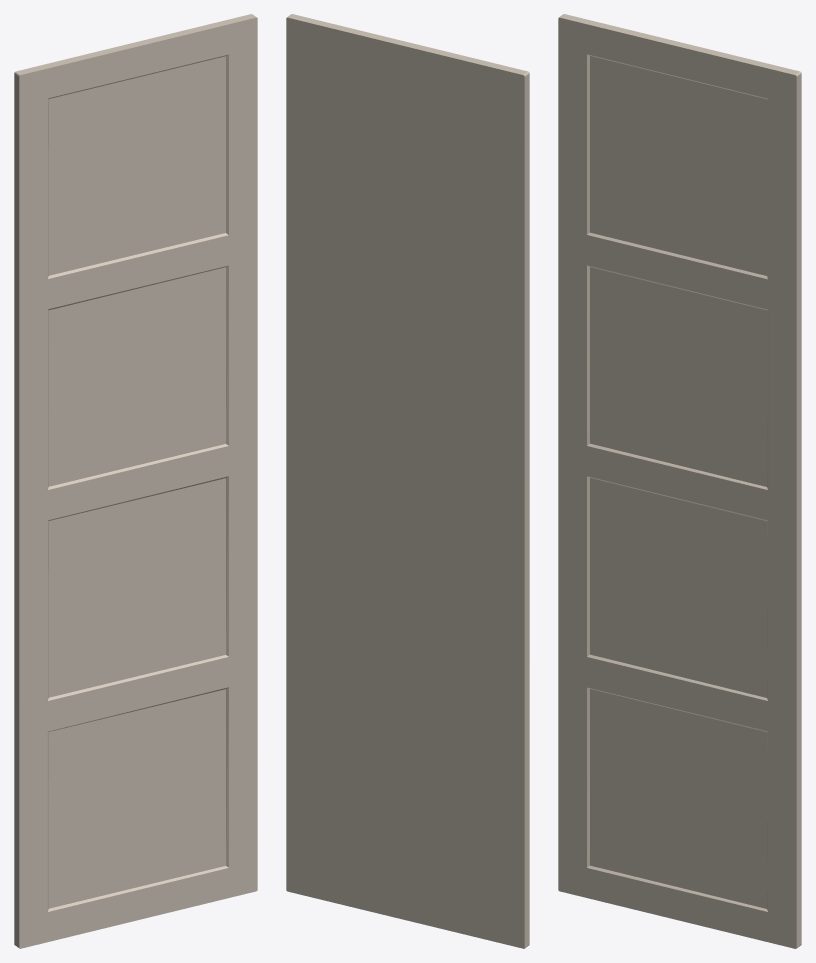
File: NRD BOY KPK 15.glb
The picture shows the model from 3 angles, left to right: view 1: azimuth 30°, elevation 25°; view 2: azimuth 150°, elevation 25°; view 3: azimuth 330°, elevation 25°; orthographic projection.
Parts seen in each view (by area): view 1: NRD BOY KPK 15; view 2: NRD BOY KPK 15; view 3: NRD BOY KPK 15.
Boxes of the visible parts, bbox=[...] form: NRD BOY KPK 15: bbox=[14, 14, 257, 948]; NRD BOY KPK 15: bbox=[286, 14, 529, 948]; NRD BOY KPK 15: bbox=[558, 14, 801, 948].
Bounding box in the file's own units: 0.4999 × 1.75 × 0.018.
